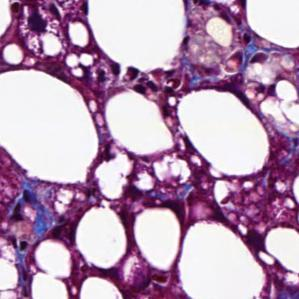inflammation: (10, 0, 68, 33), (2, 185, 43, 226), (127, 67, 170, 93), (82, 63, 122, 88), (230, 47, 269, 66)
